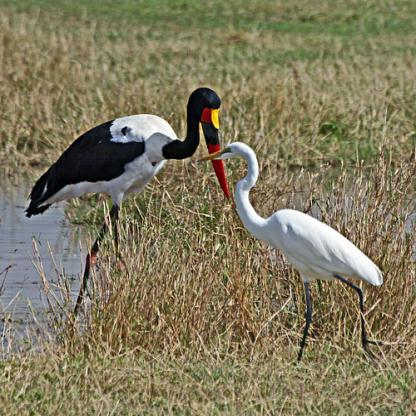bird: (20, 85, 231, 343), (193, 138, 386, 371)
